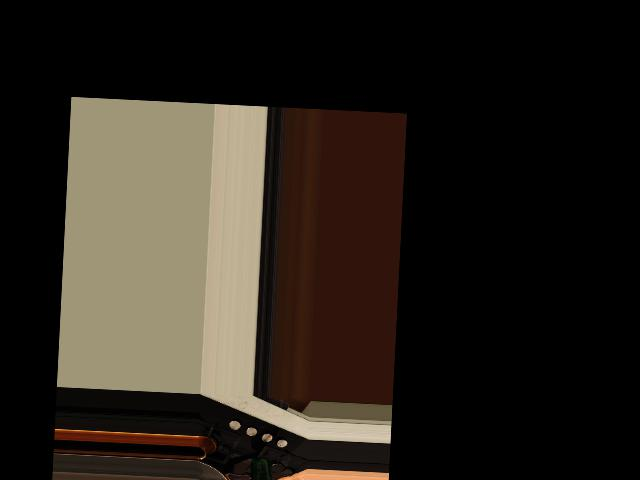beer: (248, 456, 271, 480)
